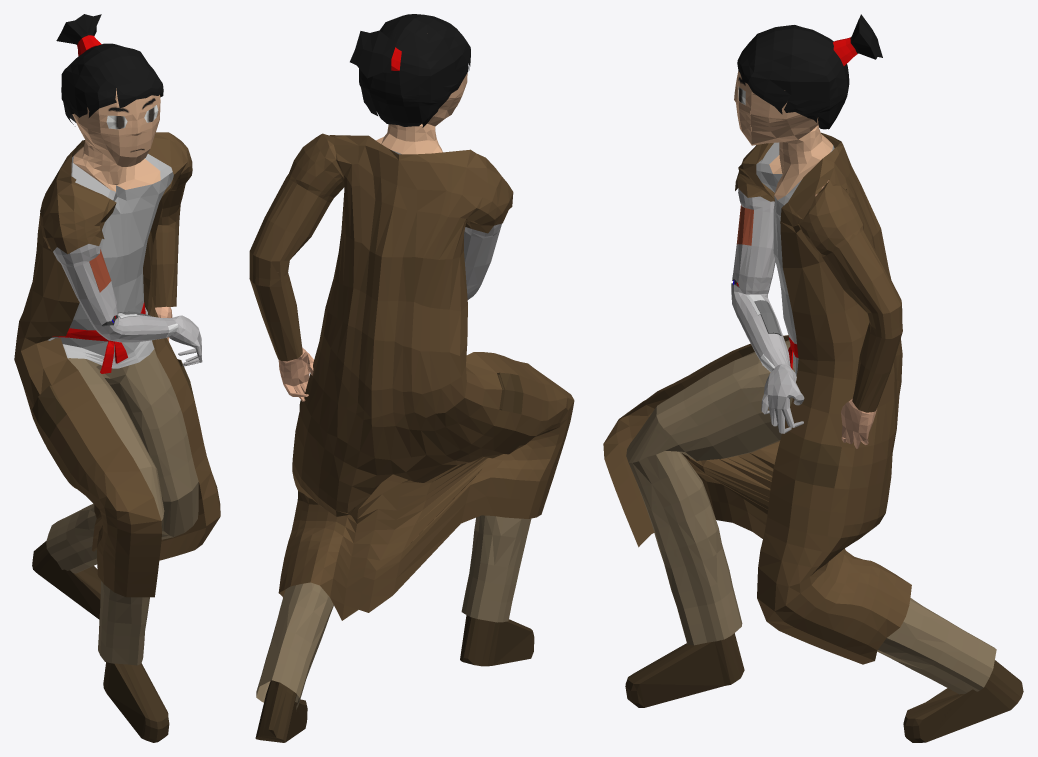
The model's file is One_DB_000003.obj.
3 views of the same model, side by side, from view 1: azimuth 30°, elevation 25°; view 2: azimuth 150°, elevation 25°; view 3: azimuth 270°, elevation 25° (orthographic). The views are drawn at different scales.
Visible parts, largest first — view 1: Hair_Cube.004; view 2: Hair_Cube.004; view 3: Hair_Cube.004.
Boxes of the visible parts, <box> form: Hair_Cube.004: <box>14,14,220,742</box>; Hair_Cube.004: <box>249,14,574,742</box>; Hair_Cube.004: <box>603,14,1023,742</box>.
Size of the model in its own units: 1.09 by 3.5 by 1.9.
